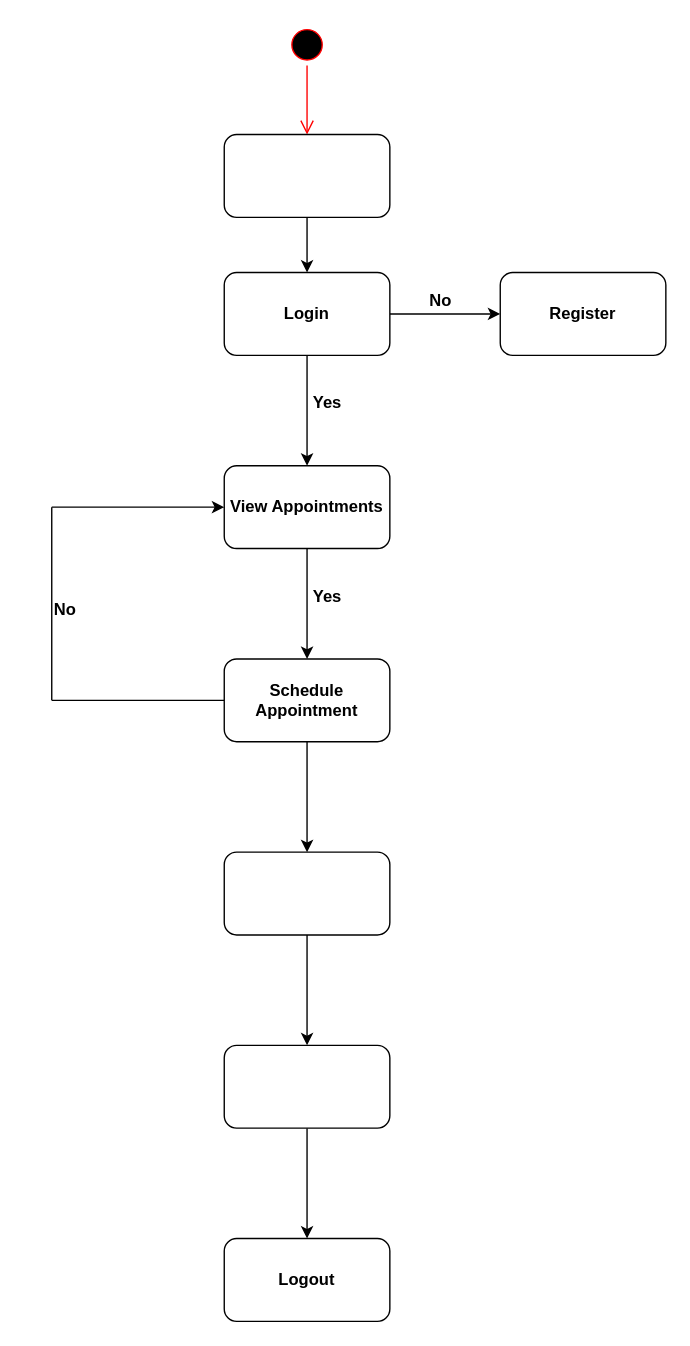
This 690x1346 diagram has some shape labels left out. Each missing label, with the box of its shape:
Start: (223, 133, 390, 217)
View Payment: (223, 851, 390, 935)
View Reviews: (223, 1044, 390, 1128)
